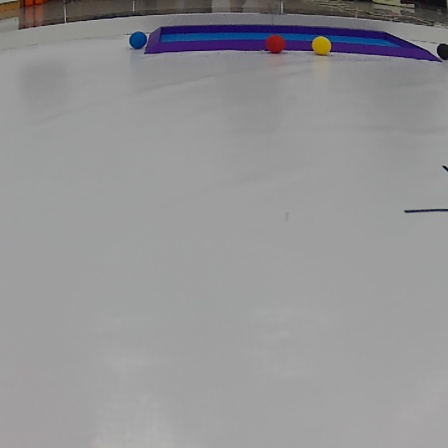black: (436, 42, 448, 62)
blue: (128, 31, 149, 51)
blue_aim: (142, 21, 446, 60)
red: (266, 34, 286, 55)
yellow: (313, 35, 332, 54)
